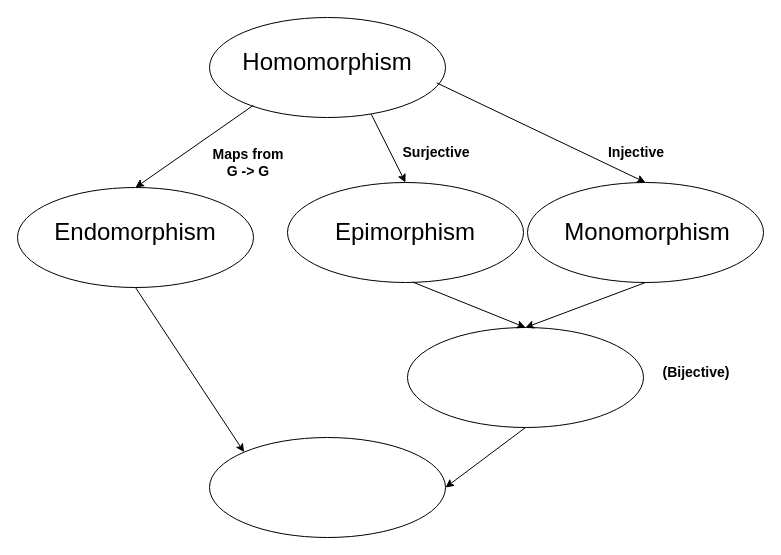
This 781x555 diagram has some shape labels left out. The shapes that lost their labels are listed below. From the top down, each one's box as (x1, y1, x2, y2) in pixels, then its label:
(406, 326, 644, 428): Isomorphism
(208, 436, 446, 538): Automorphism
